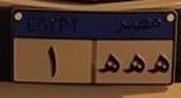1: (46, 44, 61, 79)
haa: (122, 49, 147, 80), (98, 50, 122, 78), (146, 50, 170, 77)
